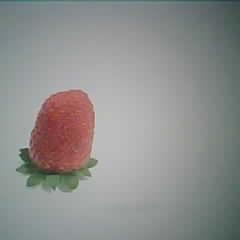straw-ripe: (29, 89, 97, 174)
